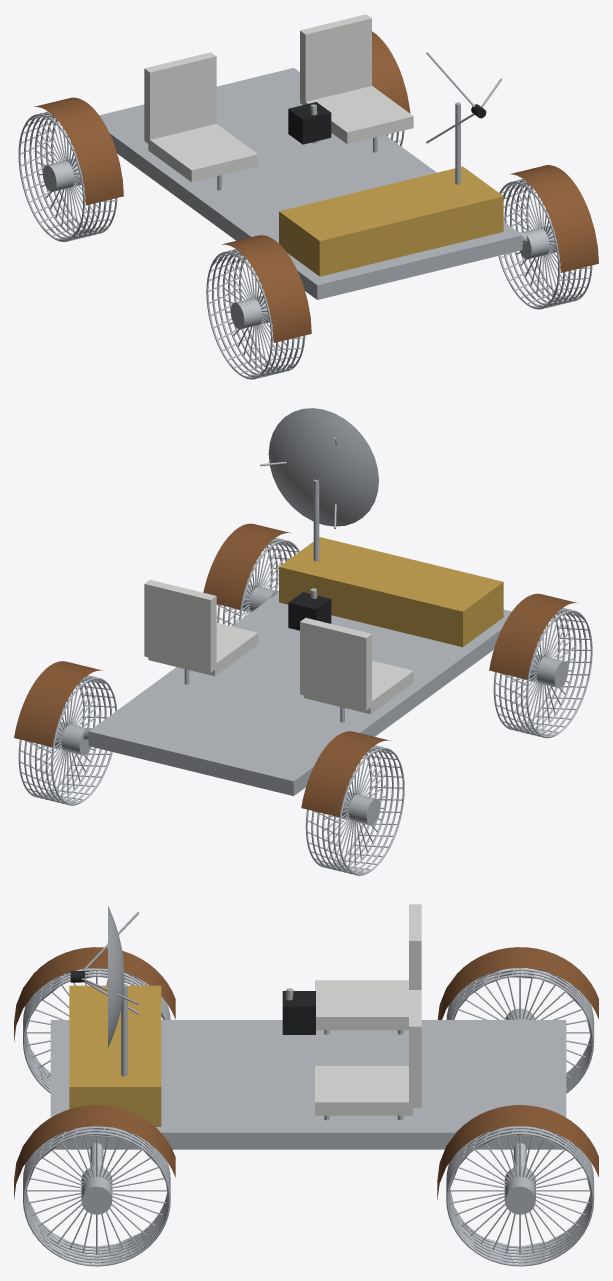
The model's file is lunar_rover.glb.
The picture shows the model from 3 angles, top to bottom: view 1: azimuth 30°, elevation 25°; view 2: azimuth 150°, elevation 25°; view 3: azimuth 270°, elevation 25°; orthographic projection. The views are drawn at different scales.
Parts seen in each view (by area): view 1: chassis, battery_bay, fender (×4), seat_back (×2), seat_cushion (×2), wire_ring (×6), hub (×3), console, antenna_mast; view 2: chassis, battery_bay, fender (×4), seat_back (×2), dish_reflector, seat_cushion (×2), hub (×3), wire_ring (×3), console; view 3: chassis, wire_ring (×18), fender (×4), battery_bay, seat_cushion (×2), seat_back (×2), hub (×2), dish_reflector, console, antenna_mast.
Part boxes in pixels (x1,y1,x2,y2): chassis: (99, 68, 522, 299); battery_bay: (279, 166, 503, 276); fender (×4): (34, 31, 598, 342); seat_back (×2): (144, 14, 371, 143); seat_cushion (×2): (148, 86, 413, 182); wire_ring (×6): (18, 111, 559, 379); hub (×3): (42, 158, 556, 329); console: (288, 102, 331, 144); antenna_mast: (455, 102, 460, 184); chassis: (88, 592, 511, 795); battery_bay: (279, 537, 503, 647); fender (×4): (14, 523, 577, 816); seat_back (×2): (144, 579, 371, 710); dish_reflector: (268, 408, 378, 526); seat_cushion (×2): (148, 623, 413, 714); hub (×3): (49, 654, 568, 825); wire_ring (×3): (51, 610, 592, 875); console: (288, 592, 331, 630); chassis: (50, 1020, 566, 1149); wire_ring (×18): (23, 968, 594, 1266); fender (×4): (14, 947, 598, 1199); battery_bay: (69, 985, 161, 1126); seat_cushion (×2): (315, 980, 412, 1115); seat_back (×2): (409, 904, 421, 1108); hub (×2): (81, 1167, 535, 1214); dish_reflector: (108, 906, 124, 1047); console: (282, 991, 315, 1034); antenna_mast: (121, 984, 127, 1076).
Bounding box in the file's own units: 2.3 × 1.83 × 3.18.
